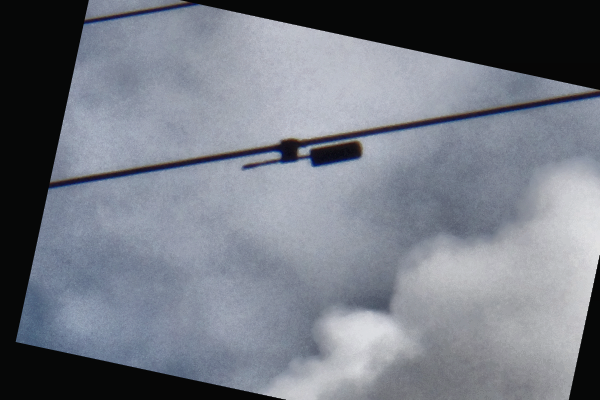damper_defect: (236, 130, 366, 174)
